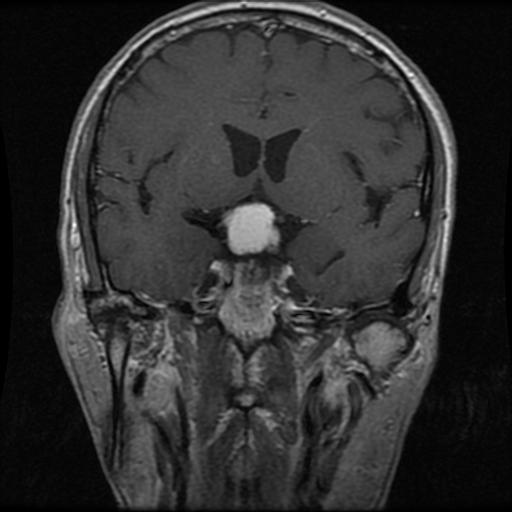Menigiomia_tumour: (224, 201, 280, 255)
